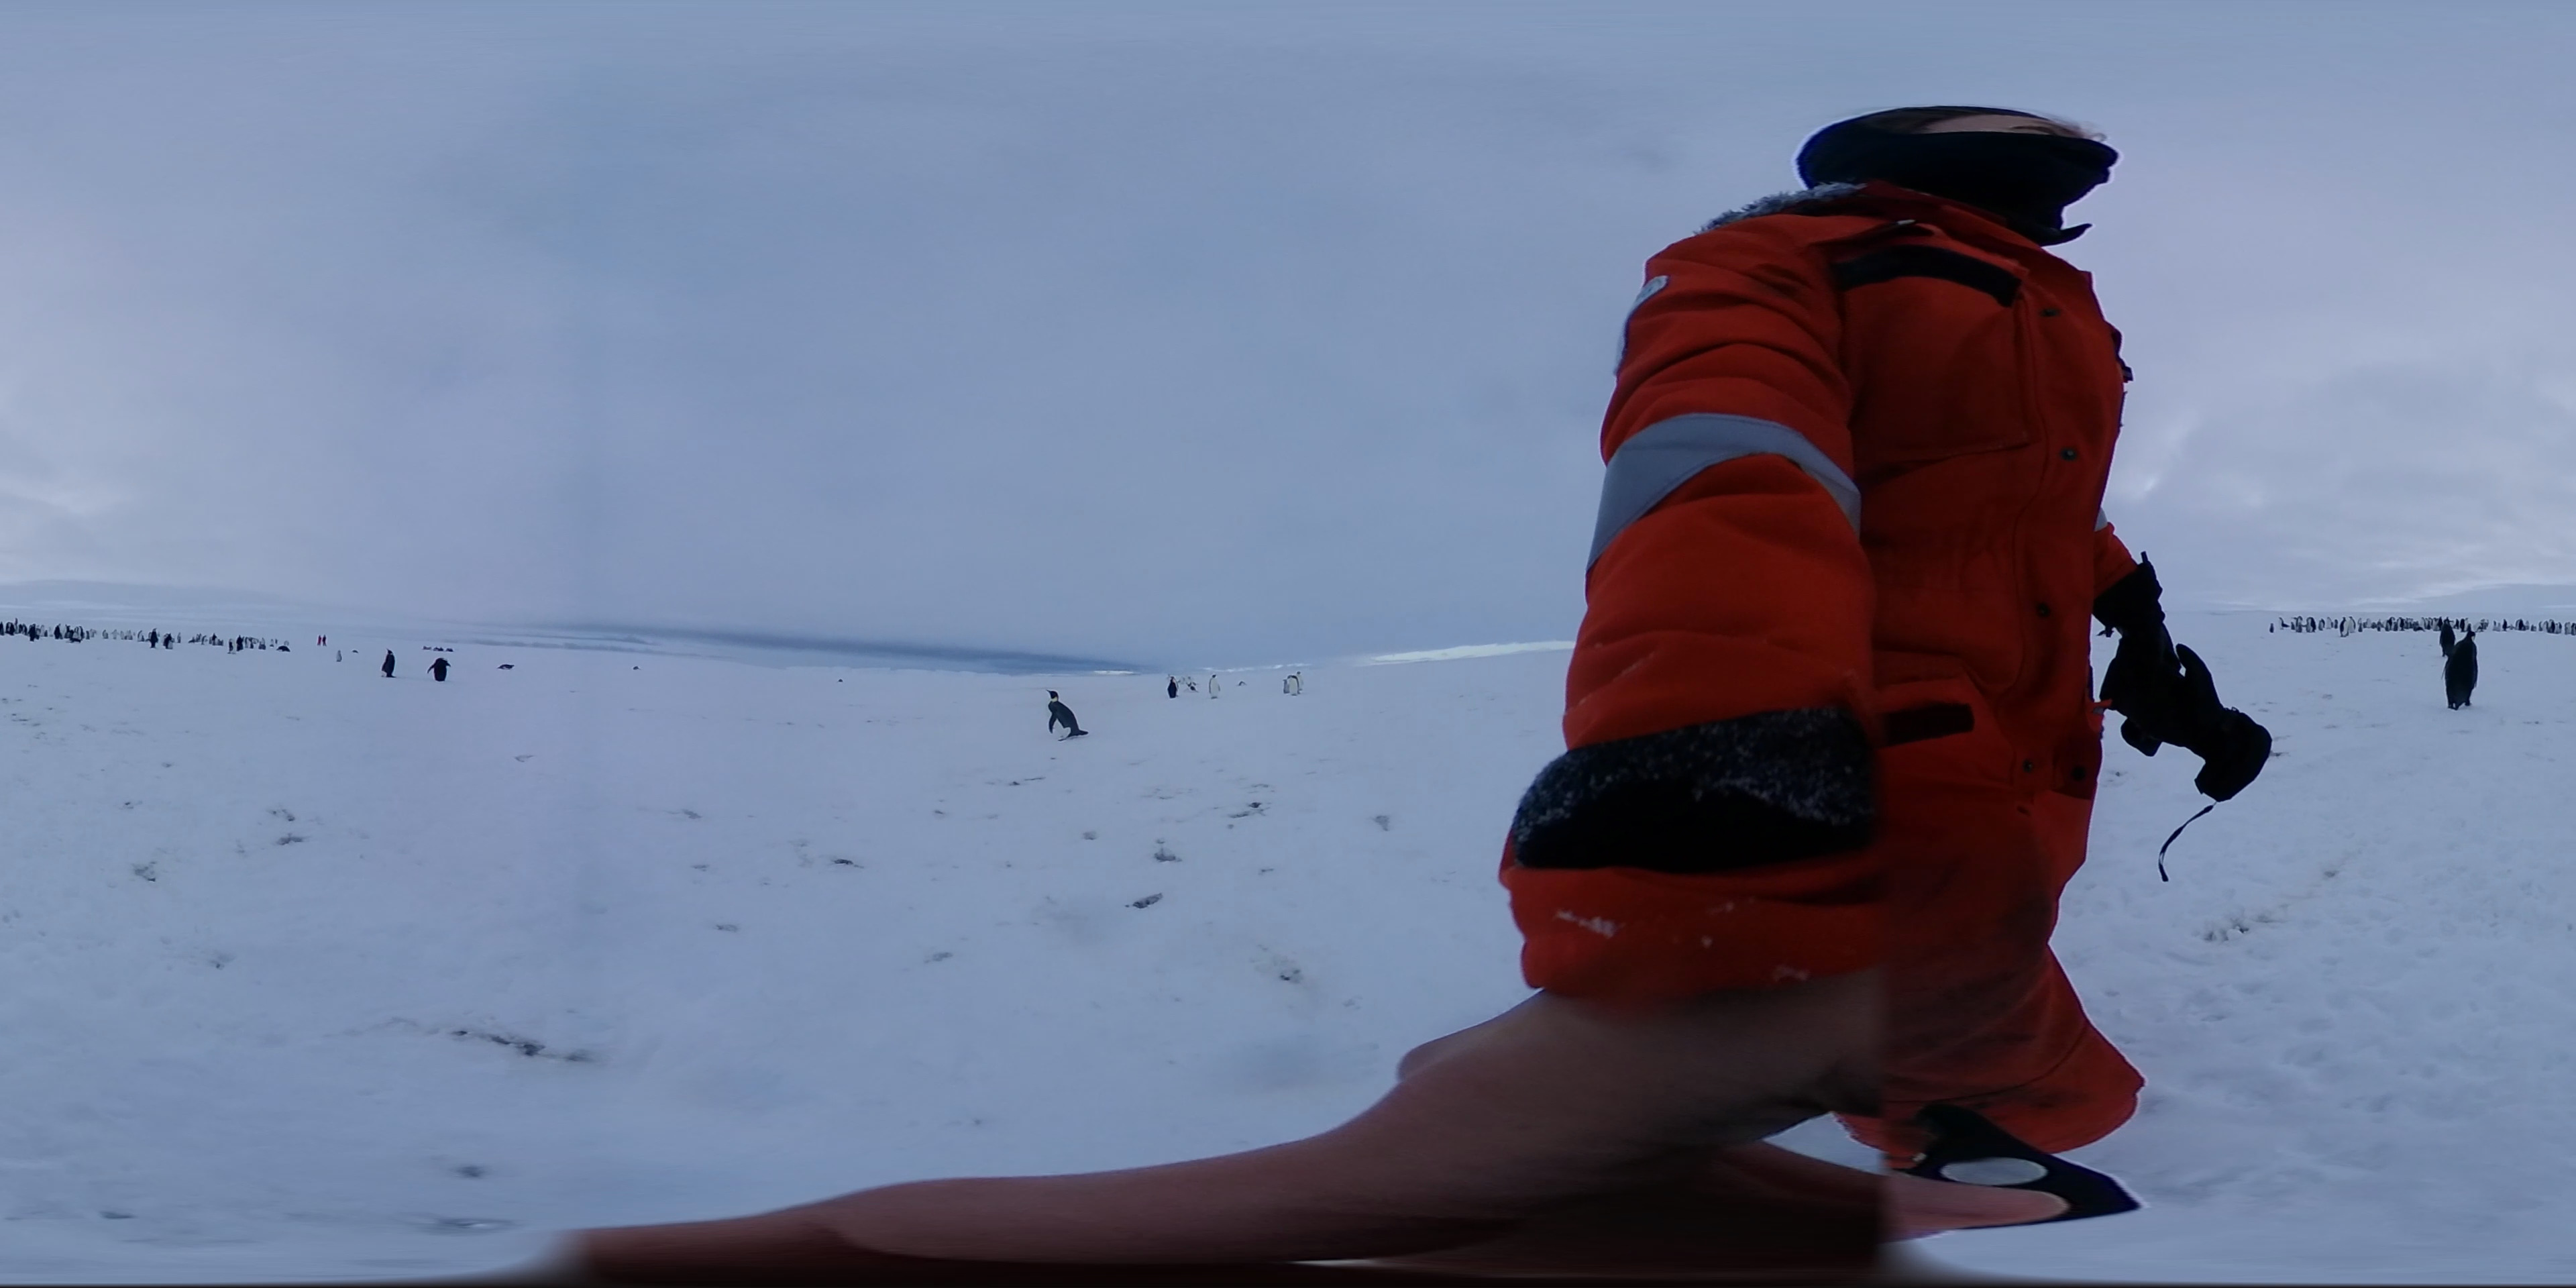adult_standing_penguin: (2441, 628, 2484, 715), (1042, 687, 1094, 746), (424, 657, 453, 683), (2438, 619, 2458, 659), (378, 646, 396, 680), (1207, 674, 1221, 700), (1288, 674, 1301, 697), (1296, 670, 1306, 692)
adult_toboggan_penguin: (494, 662, 517, 674)
juvenile_penguin: (1281, 677, 1293, 695)
researcher: (1479, 67, 2262, 1255)
